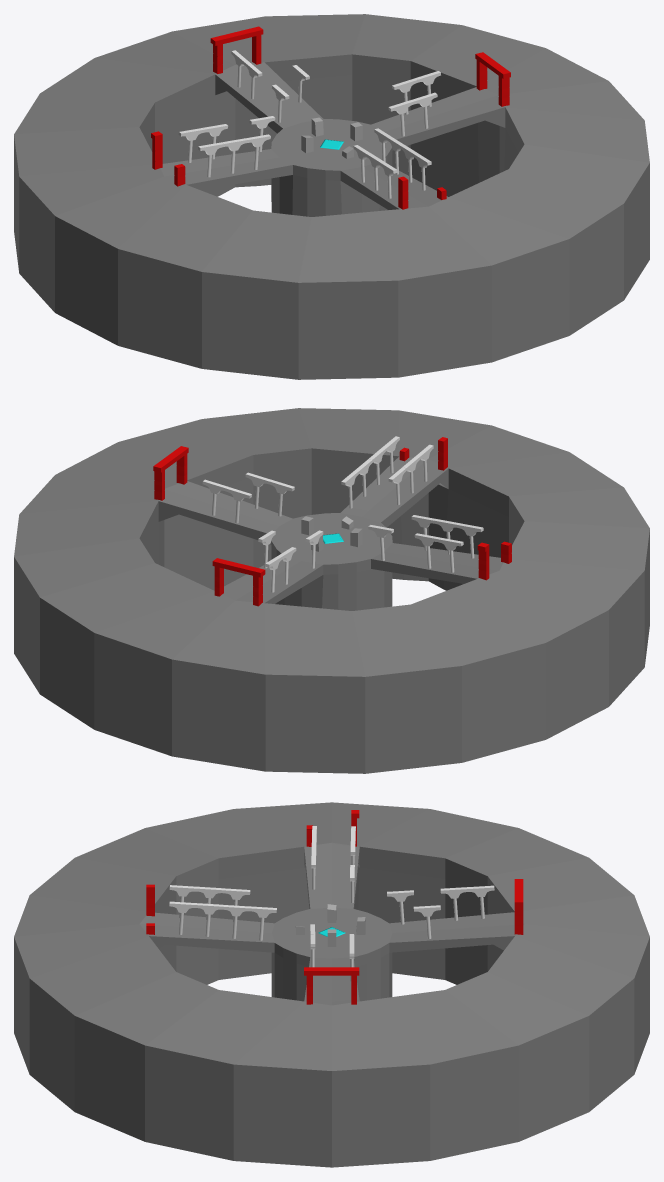
File: Level01.fbx
3 views of the same model, one above another, from view 1: azimuth 30°, elevation 25°; view 2: azimuth 150°, elevation 25°; view 3: azimuth 270°, elevation 25° (orthographic).
Visible parts, largest first — view 1: pPipe2, Arch, pCube5, pCube4; view 2: pPipe2, Arch, pCube5, pCube4; view 3: pPipe2, pCube5, Arch.
Part boxes in pixels (x1=…): pPipe2: x1=14, y1=14, x2=649, y2=379; Arch: x1=210, y1=26, x2=263, y2=73; pCube5: x1=475, y1=52, x2=510, y2=106; pCube4: x1=151, y1=131, x2=185, y2=186; pPipe2: x1=14, y1=408, x2=649, y2=773; Arch: x1=212, y1=558, x2=265, y2=606; pCube5: x1=153, y1=446, x2=188, y2=500; pCube4: x1=477, y1=541, x2=511, y2=580; pPipe2: x1=14, y1=802, x2=649, y2=1167; pCube5: x1=304, y1=967, x2=359, y2=1004; Arch: x1=514, y1=879, x2=523, y2=934.
Bounding box in the file's own units: 43.21 × 11.61 × 43.21.
